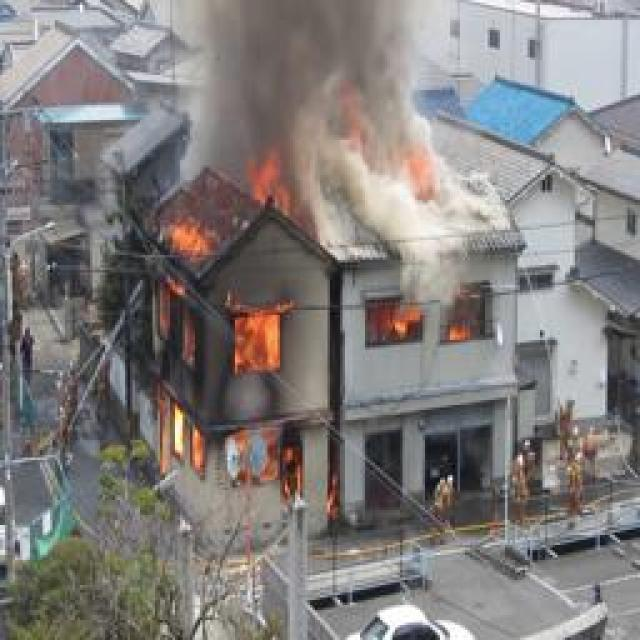Fire: (150, 167, 298, 489), (371, 288, 486, 346)
